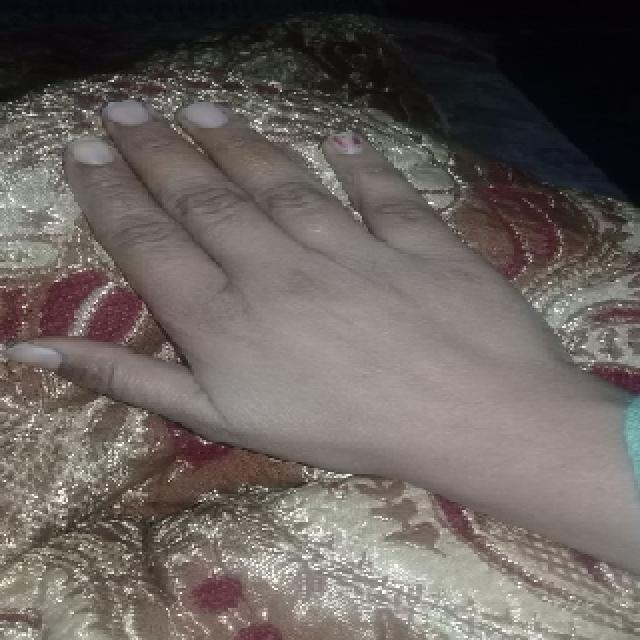Nail: (5, 342, 62, 371), (182, 102, 229, 129), (70, 140, 115, 166), (105, 101, 150, 126), (329, 131, 364, 155)
